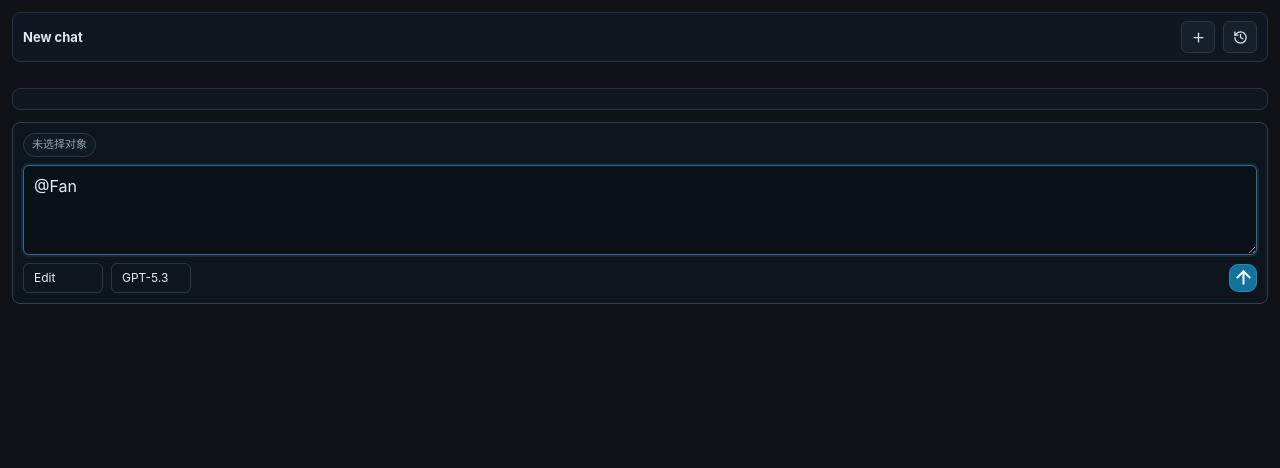
AgentPanel › does not send hidden mesh references when the visible mention is edited into a longer letter name
This screenshot has width=1280, height=468.
Replace the text in the text box named "AI 指令输入" with "把 @FanBlade 旋转 30 度" at (640, 210), box [23,165,1257,255]
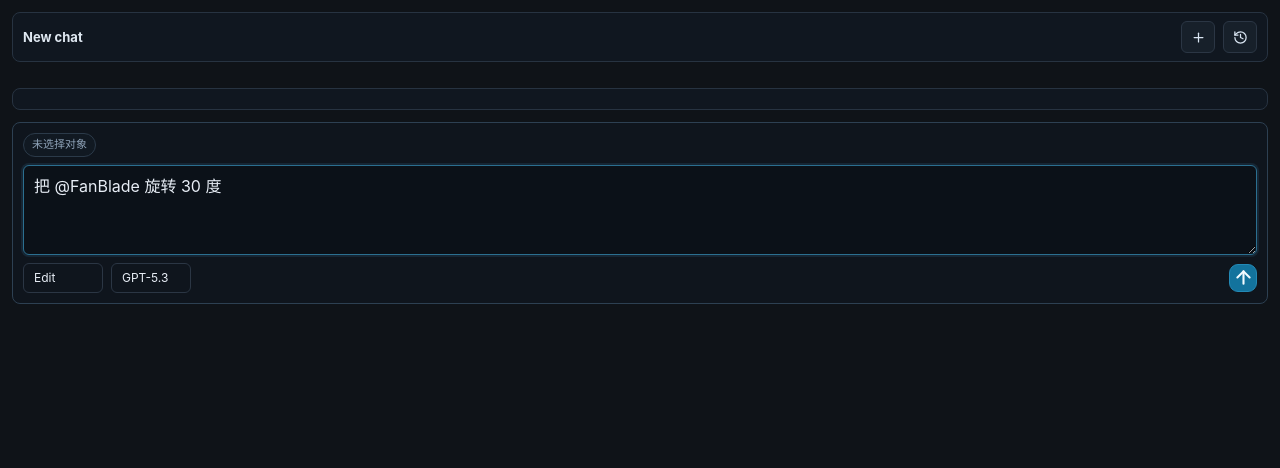
Click the button named "发送指令" at (1243, 278), box [1229,264,1257,292]
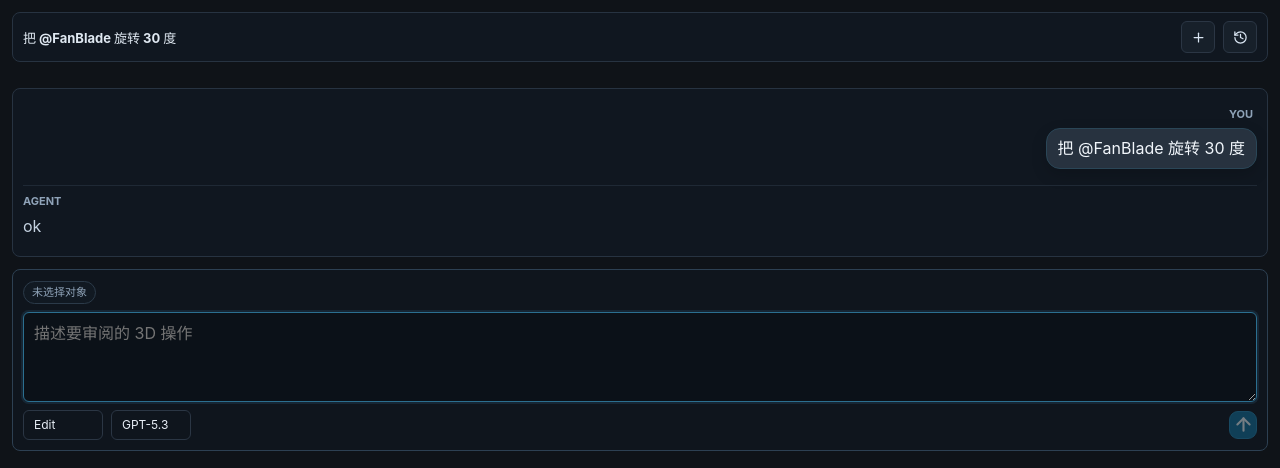
Expected: the 1st text "把 @FanBlade 旋转 30 度" is shown, [23,28,176,46]
